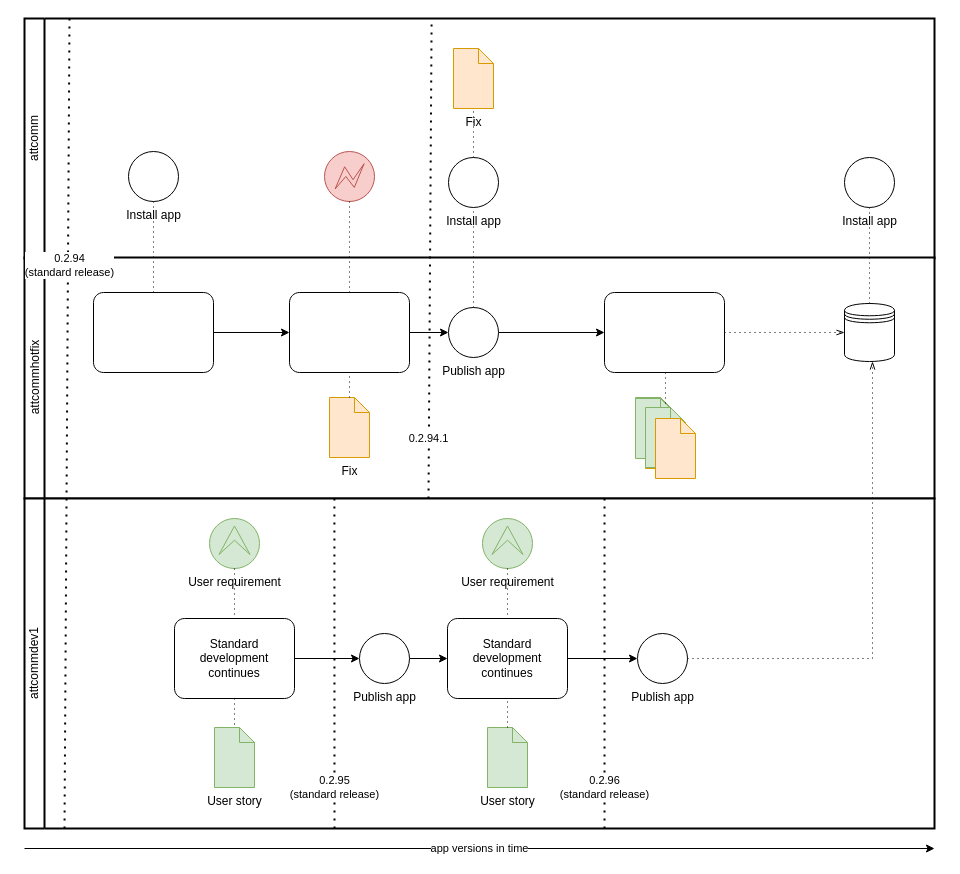
The diagram is 960 pixels wide and 874 high, and some of its shapes have lost their labels. Here are the shapes that lost their labels. From the top down, the centre of each, then its label:
the point at 349,176: SEV1 defect
the point at 153,332: Create branch from tag
the point at 349,332: Develop fix for defect
the point at 664,332: Merge fix (branch) into development
the point at 869,332: Code repository (0.2.96 + 0.2.94.1)
